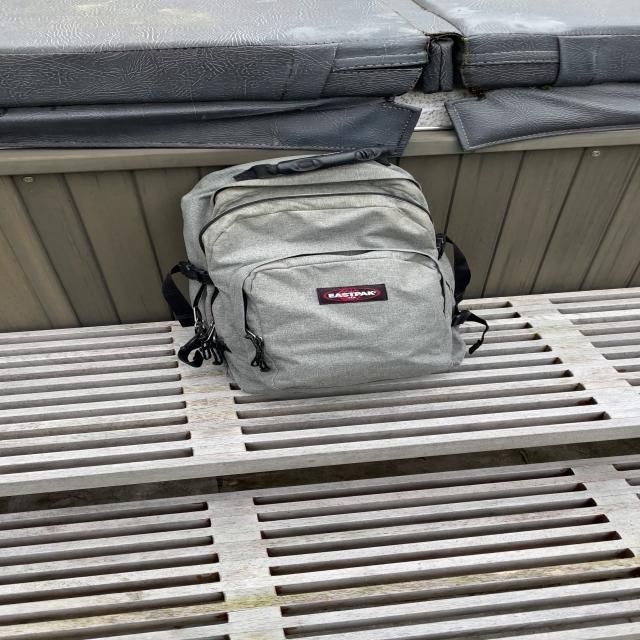backpack: (163, 152, 480, 409)
